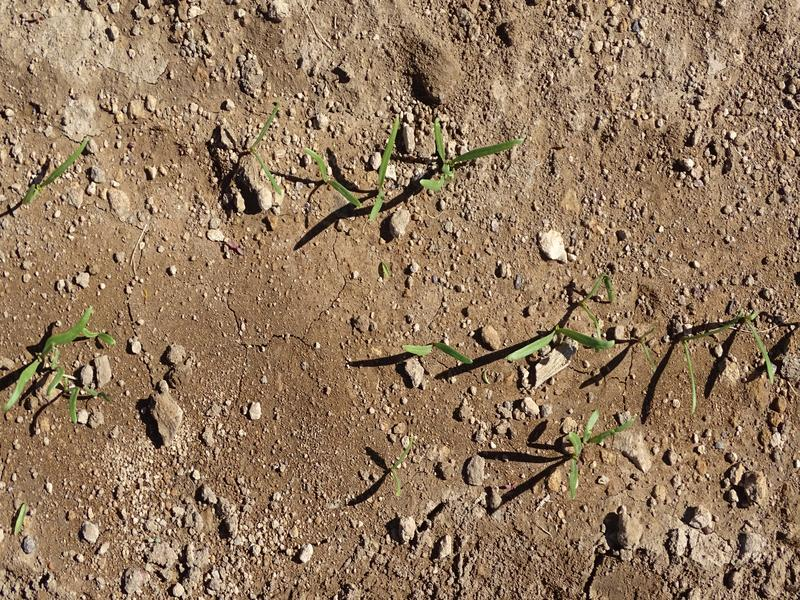Espinaca: (328, 127, 522, 215), (10, 304, 119, 422), (686, 303, 779, 404), (503, 304, 625, 359), (549, 412, 633, 491), (14, 136, 98, 204), (235, 105, 288, 192), (397, 333, 479, 369)
